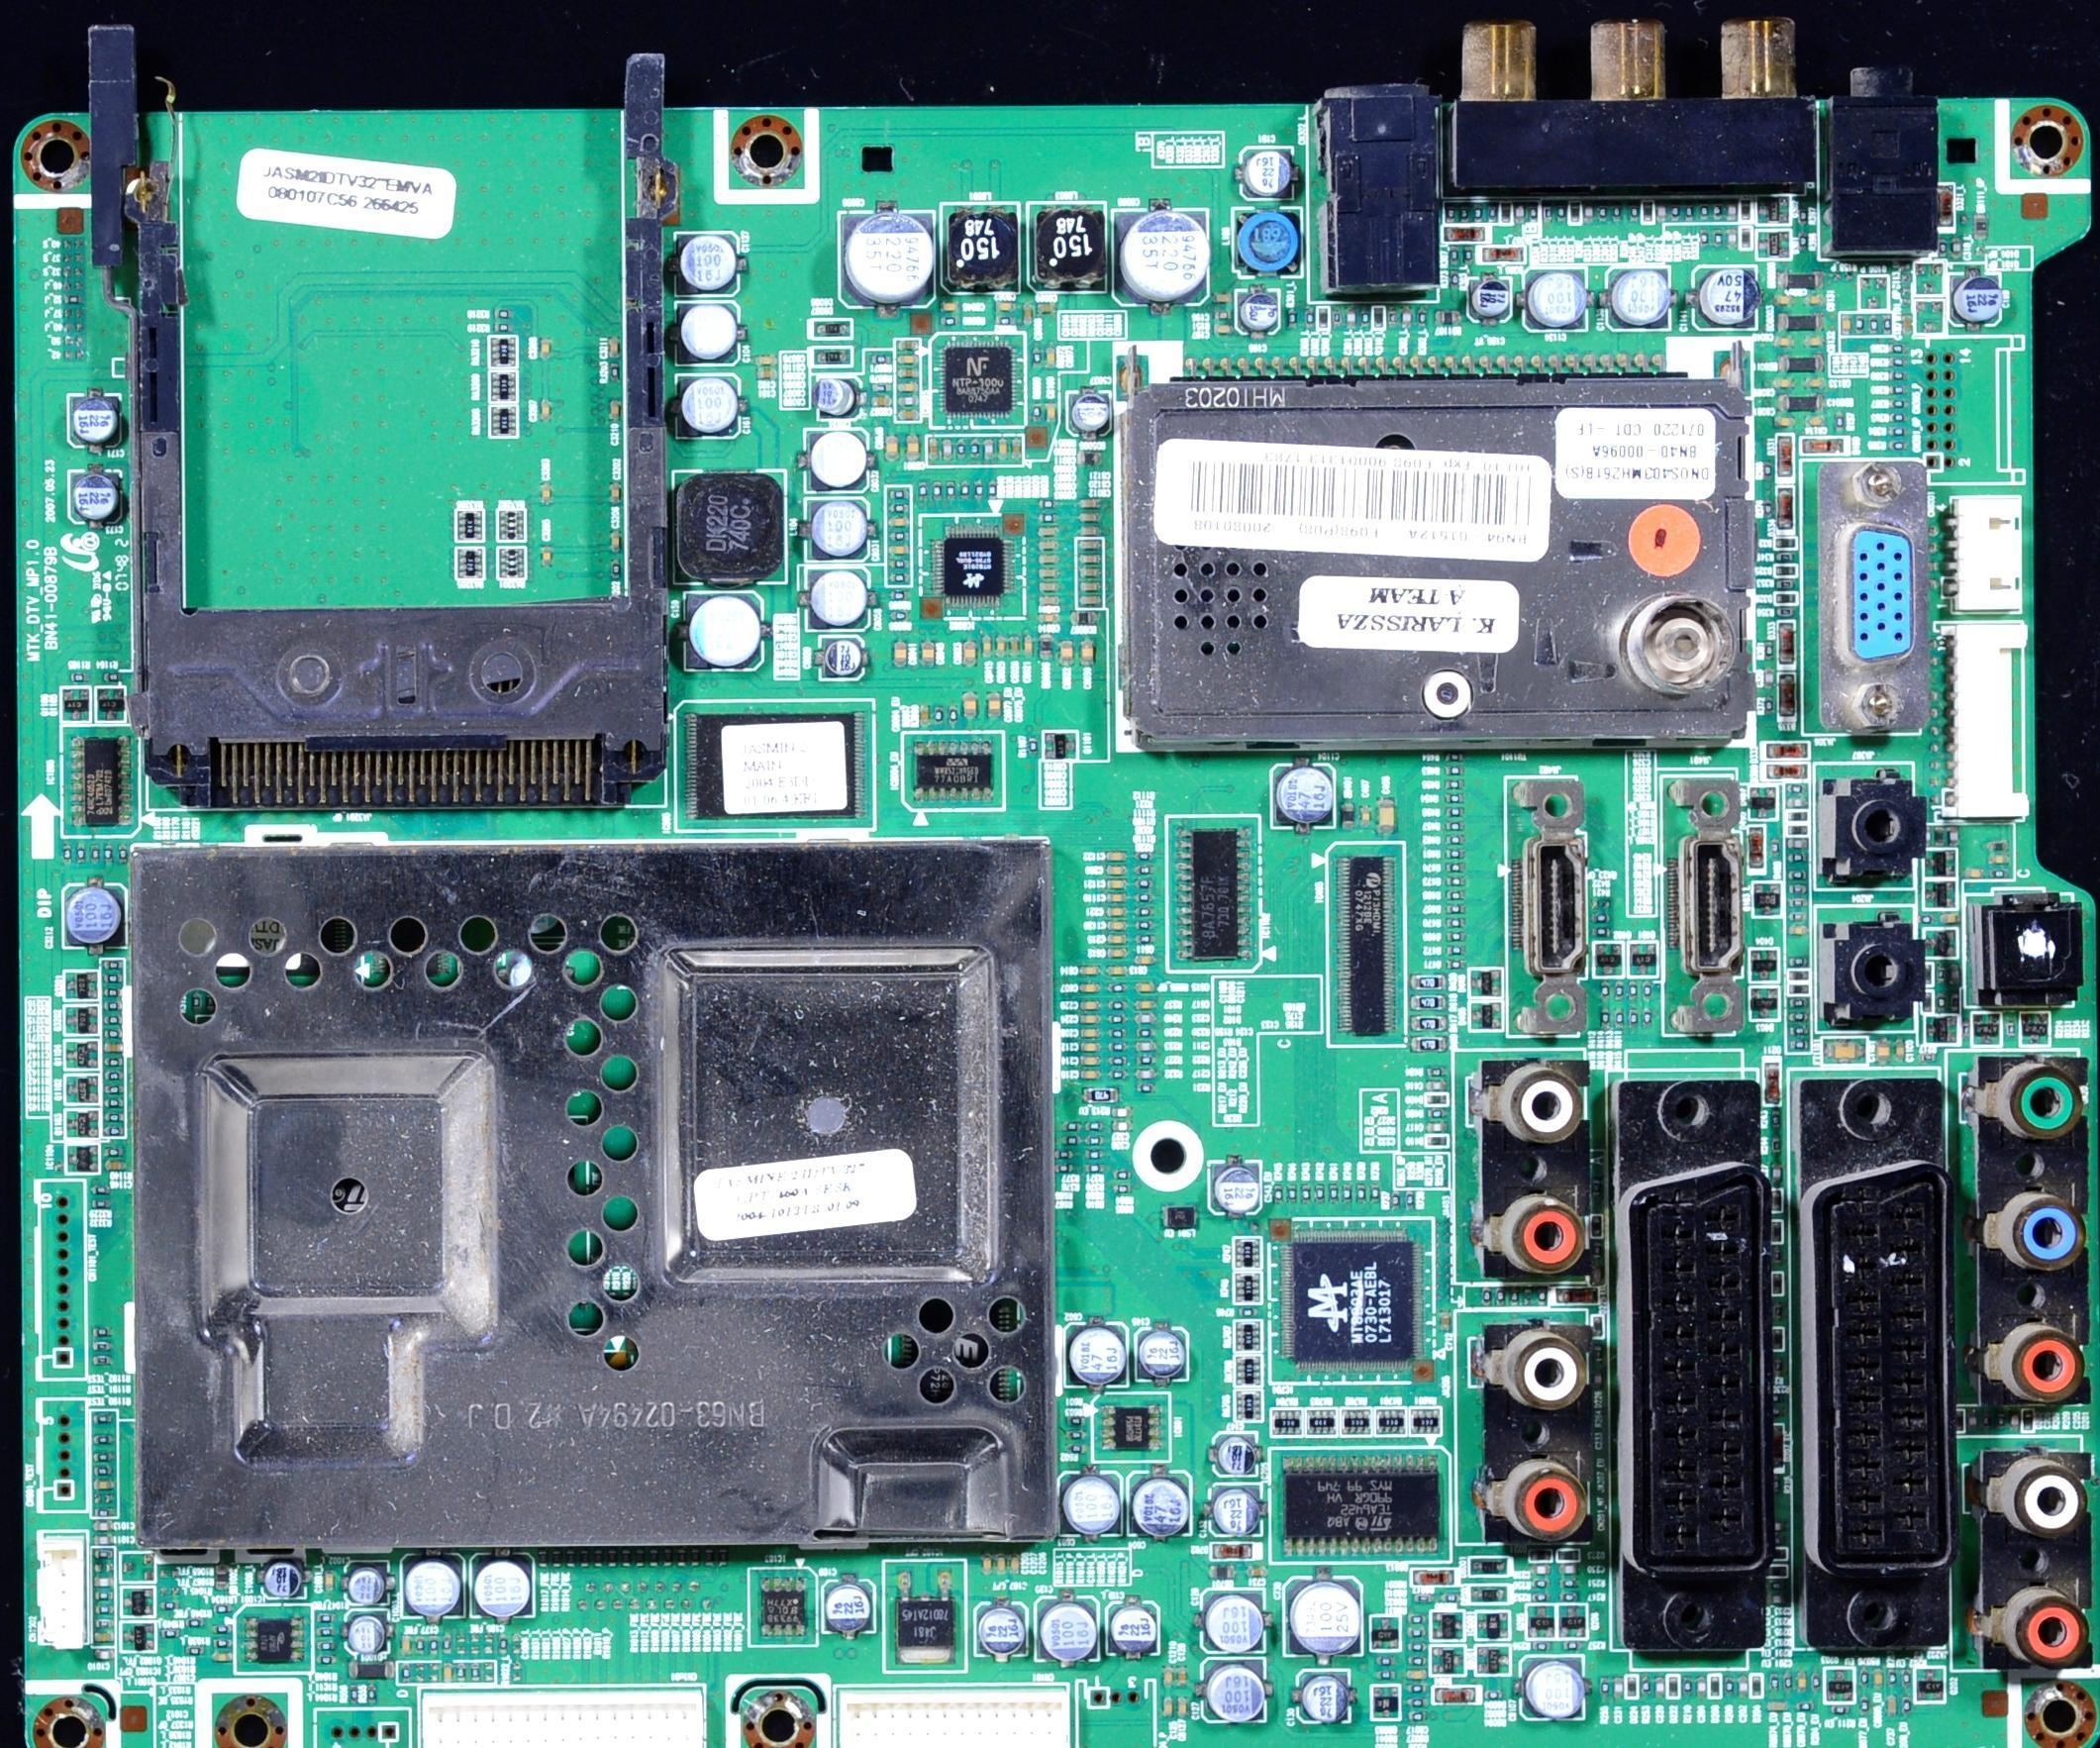Capacitor: (1374, 795, 1396, 836), (881, 434, 901, 463), (904, 433, 923, 462), (985, 691, 1004, 719), (961, 692, 979, 717), (961, 641, 978, 667), (1058, 639, 1073, 668), (1080, 641, 1096, 667), (922, 639, 936, 667), (608, 530, 623, 556), (894, 640, 907, 668), (1133, 997, 1157, 1011), (1135, 1068, 1159, 1081), (1358, 804, 1372, 828), (608, 482, 623, 504), (1111, 1120, 1136, 1133), (540, 546, 554, 566), (1135, 1039, 1158, 1052), (1009, 634, 1022, 658), (920, 703, 933, 727), (94, 1479, 119, 1491), (939, 300, 961, 313), (1105, 964, 1128, 977), (1038, 525, 1058, 539), (1111, 1107, 1135, 1119), (897, 340, 921, 352), (1078, 982, 1102, 994), (104, 1159, 126, 1172), (609, 337, 622, 359), (754, 354, 776, 366), (541, 397, 551, 423), (540, 482, 552, 504), (1078, 1028, 1101, 1040), (1078, 594, 1101, 606), (1106, 891, 1129, 903), (1134, 954, 1156, 966), (541, 336, 551, 360), (609, 398, 620, 423), (1080, 1041, 1102, 1053), (756, 368, 778, 380), (898, 409, 920, 421), (942, 439, 953, 461), (888, 544, 910, 556), (1038, 580, 1059, 592), (1105, 864, 1127, 875), (1079, 999, 1102, 1010), (1134, 1013, 1156, 1024), (1080, 1055, 1103, 1066), (92, 1535, 115, 1546), (896, 355, 919, 365), (887, 516, 910, 527), (1107, 878, 1130, 889), (1079, 1014, 1100, 1026), (1135, 981, 1155, 993), (102, 1042, 124, 1053), (1726, 229, 1737, 251), (870, 395, 892, 406), (1107, 921, 1129, 932), (1106, 947, 1128, 958), (1583, 202, 1595, 222), (1023, 302, 1033, 326), (997, 440, 1009, 460), (1106, 933, 1126, 945), (1079, 964, 1099, 976), (92, 1521, 113, 1532), (1045, 348, 1055, 368), (897, 367, 918, 378), (1805, 378, 1826, 389), (1079, 554, 1100, 565), (1079, 1070, 1102, 1080), (929, 438, 939, 461), (982, 635, 992, 658), (1105, 906, 1128, 916), (1797, 1672, 1808, 1692), (1656, 203, 1667, 223), (896, 382, 918, 392), (1080, 580, 1100, 591), (1964, 868, 1984, 878), (1968, 1410, 1978, 1431), (996, 1553, 1006, 1574), (1248, 1567, 1268, 1577), (995, 301, 1016, 311), (1036, 303, 1056, 313), (897, 396, 918, 406), (984, 439, 994, 460), (1078, 498, 1099, 508), (1038, 541, 1058, 551), (1080, 566, 1101, 576), (1023, 637, 1033, 658), (1988, 854, 2009, 864), (1079, 525, 1098, 536), (1038, 595, 1060, 604), (401, 1636, 411, 1656), (1408, 1670, 1428, 1680), (1614, 1677, 1624, 1697), (1727, 201, 1737, 221), (1079, 540, 1099, 550), (1039, 554, 1058, 564), (1039, 567, 1058, 577), (325, 1570, 334, 1592), (1775, 337, 1793, 348), (1078, 513, 1100, 522), (997, 636, 1006, 658), (1105, 851, 1127, 860), (1790, 925, 1808, 936), (1738, 1678, 1748, 1697), (1903, 314, 1913, 333), (1047, 403, 1056, 422), (1774, 417, 1793, 427), (1788, 839, 1807, 849), (982, 1553, 991, 1574), (1655, 1676, 1664, 1697), (1842, 314, 1850, 335), (1805, 418, 1826, 427), (1012, 438, 1021, 459), (1039, 614, 1059, 623), (1011, 1554, 1020, 1574), (212, 1652, 232, 1661), (444, 1663, 452, 1683), (1769, 1701, 1789, 1710), (1787, 798, 1807, 807), (1942, 914, 1959, 924), (1767, 1594, 1789, 1602), (1178, 1697, 1186, 1717), (1764, 668, 1772, 688), (96, 1650, 114, 1659), (1163, 1697, 1172, 1714), (2010, 1412, 2018, 1432), (1806, 337, 1822, 347), (1534, 1565, 1550, 1574), (1775, 296, 1792, 305), (1775, 378, 1792, 387), (1178, 1668, 1186, 1687), (1874, 1669, 1882, 1688), (1698, 1678, 1706, 1697), (1164, 1668, 1172, 1686), (1806, 295, 1822, 304), (1561, 1566, 1578, 1574), (96, 1632, 113, 1640), (1888, 1697, 1896, 1713), (96, 1578, 112, 1586)
Connector: (1939, 624, 2028, 817), (425, 1694, 705, 1747), (841, 1693, 1071, 1748), (1944, 499, 2024, 611), (37, 1539, 84, 1648)
IC: (896, 1574, 954, 1664), (236, 1605, 314, 1671), (761, 1578, 806, 1636), (1432, 1611, 1464, 1642), (123, 1589, 153, 1616), (1210, 1566, 1236, 1579)
Resistor: (1875, 1040, 1890, 1063), (1134, 1054, 1156, 1067), (1108, 1069, 1131, 1081), (1136, 1081, 1158, 1094), (493, 307, 514, 321), (91, 1326, 113, 1339), (1135, 933, 1157, 945), (1106, 1013, 1130, 1024), (1106, 1041, 1128, 1053), (1107, 1055, 1129, 1067), (1329, 1183, 1341, 1205), (92, 1451, 114, 1463), (1683, 202, 1696, 222), (934, 705, 945, 728), (1108, 999, 1129, 1011), (92, 1465, 113, 1477), (1134, 877, 1154, 889), (1107, 982, 1128, 994), (93, 1355, 115, 1366), (94, 1506, 116, 1517), (940, 316, 961, 327), (870, 355, 892, 365), (1134, 920, 1155, 931), (102, 961, 124, 972), (1315, 1183, 1327, 1203), (1356, 1182, 1366, 1206), (94, 1434, 114, 1446), (102, 1000, 123, 1011), (1107, 1027, 1128, 1038), (1370, 1183, 1381, 1204), (1273, 1183, 1284, 1204), (1405, 1190, 1416, 1211), (91, 1198, 112, 1209), (1766, 1580, 1787, 1591), (1134, 851, 1154, 862), (1135, 893, 1155, 904), (102, 974, 123, 984), (92, 1340, 115, 1350), (1029, 734, 1039, 757), (1669, 203, 1681, 222), (1783, 1672, 1794, 1692), (1612, 202, 1622, 224), (1544, 203, 1553, 225), (1699, 228, 1710, 248), (871, 382, 893, 392), (949, 704, 958, 726), (1134, 864, 1153, 874), (1134, 906, 1155, 916), (1712, 202, 1724, 220), (90, 1185, 111, 1195), (1302, 1183, 1312, 1204), (1287, 1183, 1297, 1204), (1343, 1183, 1352, 1204), (1136, 1027, 1154, 1038), (93, 1413, 112, 1424), (1629, 203, 1640, 222), (103, 988, 123, 998), (1392, 1190, 1402, 1210), (1789, 912, 1809, 922), (1712, 229, 1723, 247), (1786, 784, 1808, 793), (1592, 928, 1610, 939), (104, 1015, 123, 1025), (105, 1098, 124, 1108), (104, 1125, 123, 1135), (494, 323, 513, 333), (1996, 1410, 2005, 1431), (1981, 1411, 1990, 1432), (1987, 842, 2008, 851), (1591, 899, 1608, 910), (1789, 997, 1807, 1007), (105, 1028, 123, 1038), (1790, 1040, 1810, 1049), (105, 1071, 125, 1080), (104, 1112, 124, 1121), (442, 1636, 451, 1654), (485, 1662, 494, 1682), (1699, 203, 1709, 221), (1789, 898, 1807, 908), (1447, 917, 1464, 927), (1447, 945, 1464, 955), (1790, 1026, 1809, 1035), (104, 1058, 123, 1067), (512, 1635, 521, 1654), (471, 1635, 480, 1654), (319, 1655, 338, 1664), (457, 1663, 466, 1682), (430, 1663, 439, 1682), (1376, 1671, 1395, 1680), (1763, 461, 1772, 479), (1447, 793, 1463, 803), (1447, 849, 1463, 859), (1897, 1041, 1905, 1062), (514, 1663, 522, 1684), (1629, 981, 1638, 999), (105, 1085, 123, 1094), (214, 1625, 232, 1634), (429, 1636, 438, 1654), (1563, 1641, 1581, 1650), (416, 1664, 425, 1682), (471, 1664, 480, 1682), (1860, 1697, 1869, 1715), (1598, 205, 1607, 223), (1556, 205, 1565, 223), (1446, 753, 1463, 762), (1446, 768, 1463, 776), (1770, 839, 1779, 857), (1989, 869, 2007, 877), (1789, 958, 1807, 967), (416, 1635, 424, 1655), (1770, 1673, 1778, 1693), (1448, 780, 1463, 790), (1449, 932, 1464, 942), (1771, 1110, 1780, 1127), (1561, 1580, 1578, 1589), (1859, 1670, 1868, 1687), (1868, 317, 1877, 334), (1448, 876, 1464, 885), (1789, 1013, 1808, 1021), (1602, 1008, 1610, 1027), (160, 1588, 179, 1595), (317, 1642, 336, 1650), (402, 1664, 410, 1683), (1643, 1677, 1650, 1696), (1683, 1677, 1691, 1696), (1602, 1677, 1610, 1696), (1725, 1678, 1733, 1697), (368, 1685, 376, 1703), (1832, 1705, 1850, 1713), (1883, 315, 1891, 334), (1902, 1698, 1912, 1713), (1630, 1009, 1638, 1027), (1616, 1009, 1624, 1027), (1644, 1010, 1651, 1028), (1415, 1594, 1433, 1602), (162, 1629, 180, 1637), (214, 1640, 232, 1648), (485, 1635, 493, 1653), (499, 1635, 507, 1653), (457, 1636, 465, 1654), (186, 1647, 204, 1655), (1377, 1657, 1395, 1665), (1812, 1672, 1820, 1690), (1856, 316, 1864, 334), (1776, 552, 1792, 561), (1447, 822, 1462, 831), (1789, 854, 1805, 863), (1448, 864, 1465, 872), (1449, 891, 1464, 900), (1592, 914, 1608, 923), (1919, 915, 1935, 924), (1449, 961, 1464, 970), (2007, 1020, 2015, 1037), (1921, 1053, 1938, 1061), (95, 1551, 112, 1559), (1561, 1593, 1578, 1600), (1534, 1594, 1550, 1601), (162, 1602, 179, 1610), (318, 1614, 335, 1622), (1534, 1642, 1550, 1650), (1408, 1643, 1425, 1651), (1409, 1657, 1426, 1665), (1485, 1692, 1502, 1699), (1889, 345, 1906, 353), (1447, 808, 1463, 816), (650, 1551, 658, 1566), (552, 1552, 561, 1567), (1409, 1627, 1424, 1636), (1448, 835, 1462, 844), (1603, 982, 1610, 1001), (1962, 1020, 1969, 1039), (317, 1629, 336, 1636), (1534, 1580, 1550, 1588), (187, 1618, 203, 1626), (1888, 1669, 1896, 1685), (1902, 1670, 1910, 1686), (1891, 441, 1907, 449), (1763, 501, 1771, 517), (1789, 872, 1805, 879), (1789, 884, 1805, 892), (1448, 905, 1463, 913), (160, 1571, 178, 1578), (1443, 1594, 1460, 1601), (1409, 1614, 1423, 1623), (96, 1620, 114, 1627), (350, 1686, 357, 1703), (1409, 1699, 1427, 1706), (1766, 642, 1773, 660), (1765, 696, 1772, 714), (1891, 386, 1906, 394), (1616, 982, 1623, 999), (96, 1564, 113, 1571), (95, 1593, 112, 1599), (1890, 400, 1907, 407), (664, 1549, 671, 1565), (610, 1550, 617, 1566), (595, 1552, 603, 1566), (580, 1553, 588, 1567), (540, 1553, 548, 1567), (1409, 1686, 1425, 1693), (1798, 1702, 1814, 1709), (1777, 581, 1793, 588), (1777, 608, 1791, 616), (1773, 1138, 1780, 1153), (623, 1551, 630, 1566), (637, 1551, 644, 1566), (567, 1552, 574, 1567), (1891, 359, 1906, 365), (1890, 428, 1905, 435), (1644, 982, 1650, 999), (96, 1607, 113, 1613), (677, 1550, 684, 1564), (707, 1552, 714, 1566), (1892, 373, 1906, 380), (692, 1550, 698, 1564), (1891, 415, 1905, 421), (720, 1551, 726, 1563)
Transistor: (1824, 1668, 1855, 1703), (1915, 1668, 1947, 1702), (1475, 1644, 1511, 1675), (1924, 879, 1957, 910), (1469, 1002, 1504, 1032), (1753, 881, 1783, 916), (1594, 942, 1624, 977), (1469, 969, 1504, 998), (1923, 848, 1958, 876), (1526, 1605, 1556, 1638), (2021, 1013, 2050, 1047), (1924, 930, 1957, 960), (1972, 1013, 2001, 1047), (1629, 943, 1657, 977), (1559, 1604, 1587, 1639), (122, 1623, 154, 1652), (122, 1554, 155, 1582), (1431, 1646, 1463, 1674), (1749, 785, 1776, 818), (1477, 1612, 1511, 1639), (1372, 1617, 1399, 1649), (1750, 989, 1778, 1019), (1926, 1017, 1956, 1044), (1750, 950, 1776, 980), (1373, 1687, 1398, 1718)
